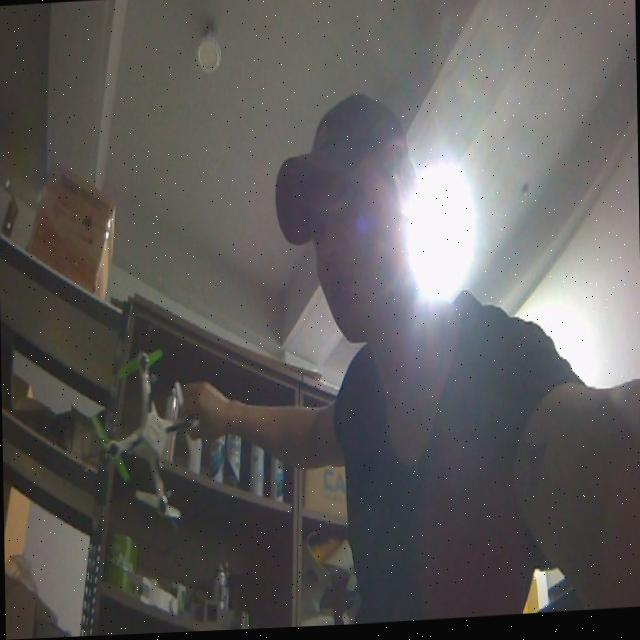drone: (76, 308, 216, 562)
